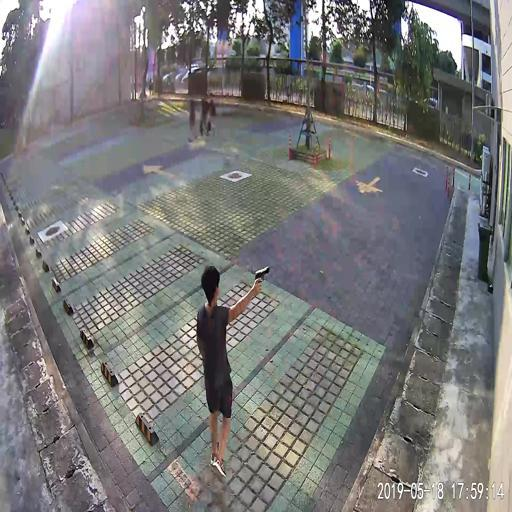Handgun: (253, 263, 269, 282)
